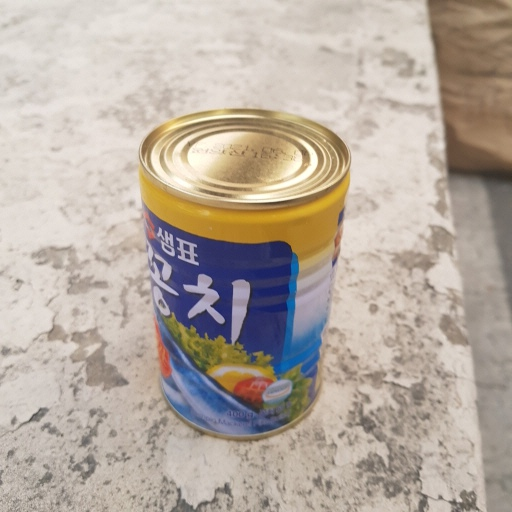Metal_1: (136, 107, 352, 439)
